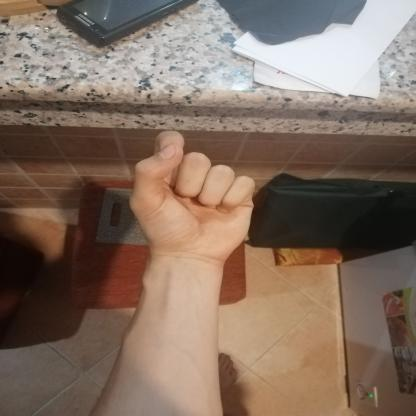FAA: (113, 117, 268, 274)
